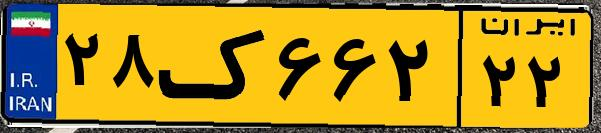2: (385, 28, 445, 110), (57, 26, 110, 100), (475, 38, 525, 113), (525, 38, 570, 115)
6: (270, 28, 330, 110), (330, 28, 385, 110)
8: (110, 28, 158, 98)
ک: (158, 12, 270, 120)
